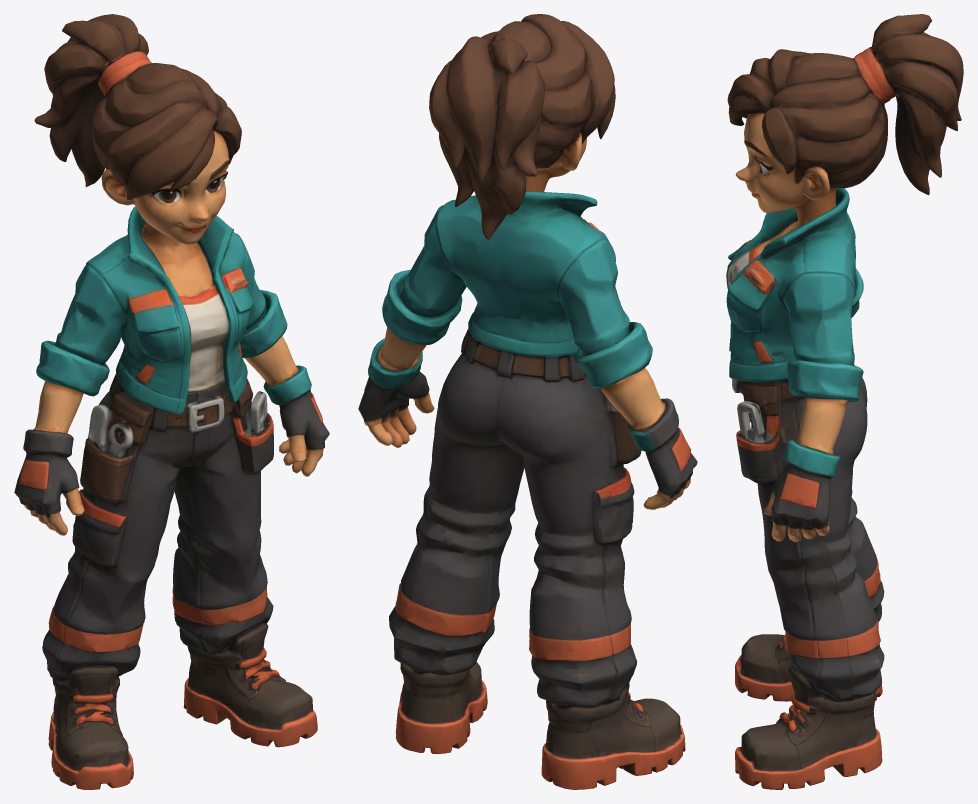
Rendered from main_player_female_1k_real.glb.
3 renders of one model, left to right at view 1: azimuth 30°, elevation 25°; view 2: azimuth 150°, elevation 25°; view 3: azimuth 270°, elevation 25°, orthographic. The views are drawn at different scales.
Parts seen in each view (by area): view 1: tripo_node_7cf3acdf-28cd-493f-90da-697dde65dd03; view 2: tripo_node_7cf3acdf-28cd-493f-90da-697dde65dd03; view 3: tripo_node_7cf3acdf-28cd-493f-90da-697dde65dd03.
Part boxes in pixels (x1=…): tripo_node_7cf3acdf-28cd-493f-90da-697dde65dd03: x1=14, y1=14, x2=329, y2=789; tripo_node_7cf3acdf-28cd-493f-90da-697dde65dd03: x1=358, y1=14, x2=697, y2=789; tripo_node_7cf3acdf-28cd-493f-90da-697dde65dd03: x1=726, y1=14, x2=963, y2=789.
Bounding box in the file's own units: 0.4508 × 1 × 0.3066.
1 material, 1 textured.
